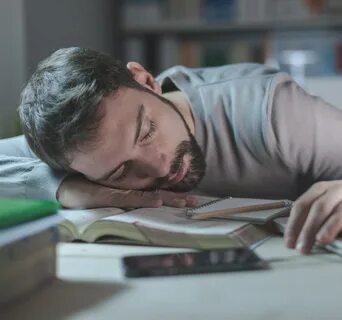sleep: (1, 43, 341, 213)
